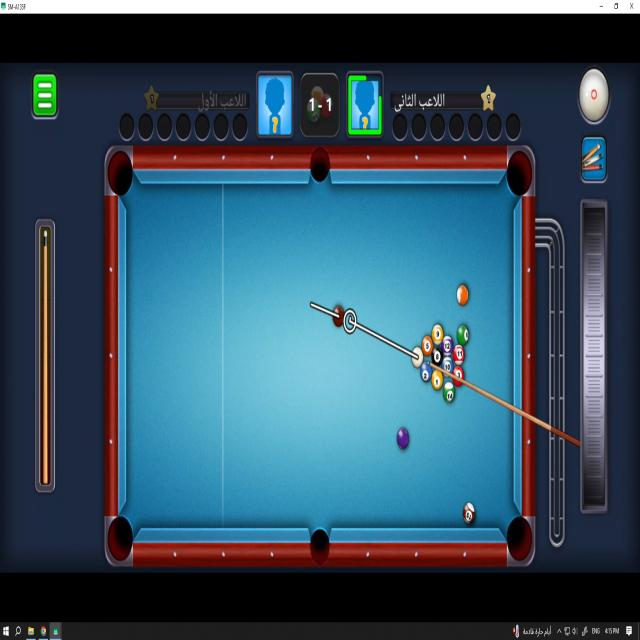object_ball: (451, 365, 466, 388), (332, 304, 345, 328), (397, 427, 409, 449), (453, 344, 465, 365), (457, 325, 469, 346), (457, 285, 468, 305), (422, 336, 433, 356), (443, 382, 454, 402), (432, 325, 443, 345), (442, 336, 453, 356), (464, 503, 474, 524), (421, 363, 432, 382), (431, 371, 442, 390), (431, 347, 442, 366), (442, 357, 453, 372)
white_cue_ball: (410, 346, 424, 369)
